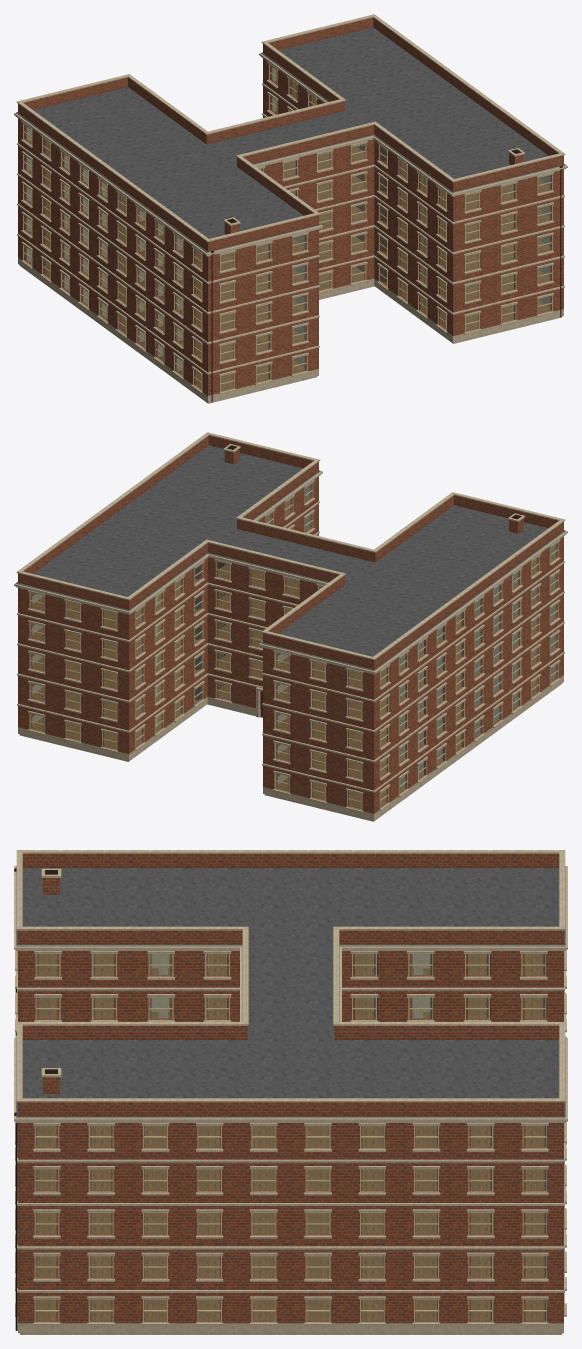
The model's file is mercer-courts.gltf.
3 views of the same model, one above another, from view 1: azimuth 30°, elevation 25°; view 2: azimuth 150°, elevation 25°; view 3: azimuth 270°, elevation 25° (orthographic). The views are drawn at different scales.
Parts seen in each view (by area): view 1: roof-L5-felt, parapet-L5-brick, exterior-L3-brick, exterior-L4-brick, exterior-L2-brick, exterior-L1-brick, exterior-L0-brick, parapet-L5-stone, facade-trim-L4-stone, facade-trim-L3-stone, exterior-L0-stone, facade-trim-L1-stone (+21 smaller); view 2: roof-L5-felt, parapet-L5-brick, exterior-L3-brick, exterior-L4-brick, exterior-L2-brick, exterior-L1-brick, exterior-L0-brick, parapet-L5-stone, facade-trim-L4-stone, facade-trim-L3-stone, exterior-L0-stone, facade-trim-L1-stone (+20 smaller); view 3: roof-L5-felt, parapet-L5-brick, exterior-L3-brick, exterior-L4-brick, exterior-L2-brick, exterior-L1-brick, parapet-L5-stone, exterior-L0-brick, glazing-L3-glass, glazing-L4-glass, facade-trim-L4-stone, floor-L3-wood (+23 smaller).
Part boxes in pixels (x1,y1,x2,y2): roof-L5-felt: (16,27,565,252); parapet-L5-brick: (18,17,563,251); exterior-L3-brick: (18,85,563,311); exterior-L4-brick: (18,58,563,281); exterior-L2-brick: (18,116,563,342); exterior-L1-brick: (18,206,563,372); exterior-L0-brick: (18,236,563,395); parapet-L5-stone: (16,14,565,242); facade-trim-L4-stone: (17,62,564,283); facade-trim-L3-stone: (17,91,564,314); exterior-L0-stone: (18,257,563,402); facade-trim-L1-stone: (17,211,564,374); roof-L5-felt: (16,445,565,670); parapet-L5-brick: (18,435,563,669); exterior-L3-brick: (18,503,563,729); exterior-L4-brick: (18,476,563,699); exterior-L2-brick: (18,534,563,760); exterior-L1-brick: (18,624,563,790); exterior-L0-brick: (18,654,563,813); parapet-L5-stone: (16,432,565,660); facade-trim-L4-stone: (17,480,564,701); facade-trim-L3-stone: (17,509,564,732); exterior-L0-stone: (18,675,563,820); facade-trim-L1-stone: (17,629,564,792); roof-L5-felt: (16,866,565,1116); parapet-L5-brick: (18,854,563,1116); exterior-L3-brick: (18,990,563,1202); exterior-L4-brick: (18,951,563,1159); exterior-L2-brick: (18,1206,563,1246); exterior-L1-brick: (18,1249,563,1289); parapet-L5-stone: (16,850,565,1102); exterior-L0-brick: (18,1293,563,1323); glazing-L3-glass: (36,998,545,1190); glazing-L4-glass: (36,954,545,1147); facade-trim-L4-stone: (15,951,566,1162); floor-L3-wood: (37,997,544,1190).
Size of the model in its own units: 26.52 by 11.67 by 24.52.
Materials: 9 (8 with a texture image).
